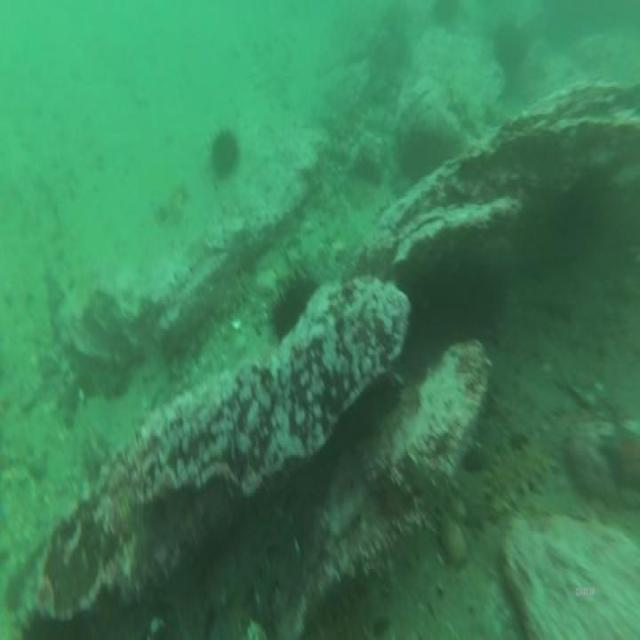echinus: (276, 278, 314, 330), (402, 128, 444, 174), (494, 16, 524, 71), (212, 132, 238, 176)
holothurian: (486, 441, 555, 512)
